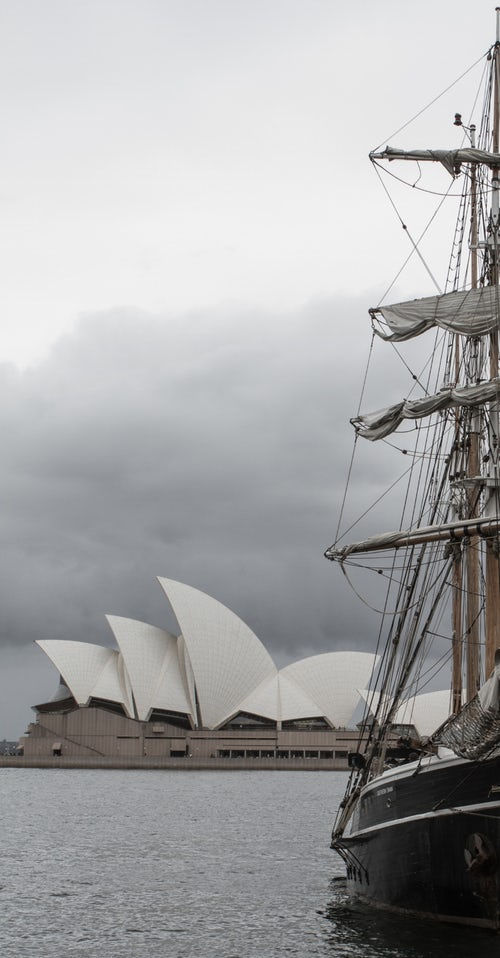opera house: (28, 565, 463, 772)
